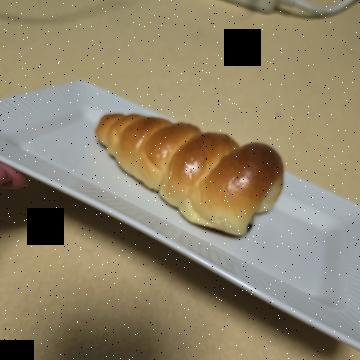cream horn: (86, 69, 240, 284)
